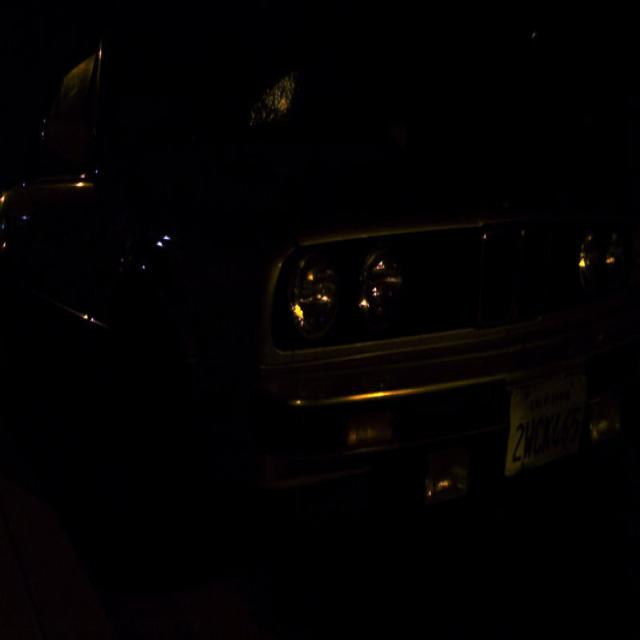car: (10, 19, 640, 550)
